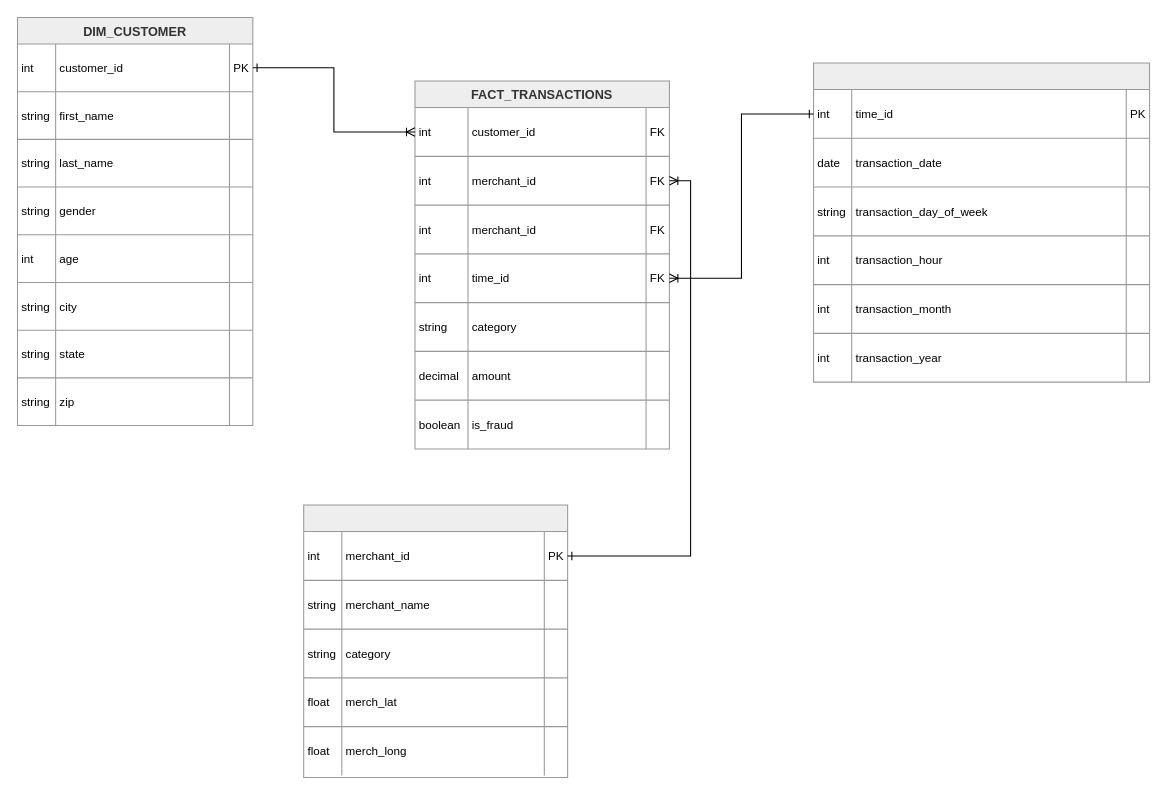
Some shapes in this 1167 by 795 pixel diagram are drawn without their labels. The box of each missing label's shape, as (x1, y1, x2, y2) in pixels:
DIM_MERCHANT: (303, 504, 568, 778)
DIM_TIME: (812, 62, 1150, 382)
